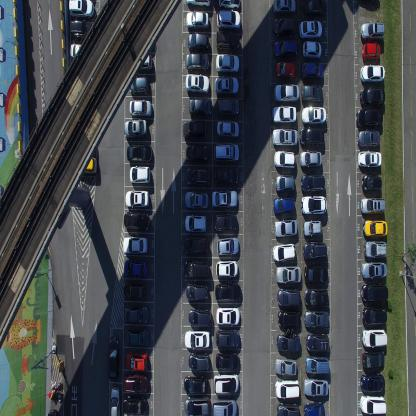car: (359, 394, 387, 416), (69, 18, 94, 42), (356, 108, 383, 130), (361, 282, 388, 304), (302, 240, 328, 262), (213, 373, 239, 395), (359, 86, 385, 108), (123, 210, 150, 231), (212, 142, 240, 162), (185, 74, 210, 96), (215, 30, 240, 52), (185, 165, 211, 186), (304, 354, 330, 375), (361, 305, 387, 326), (275, 264, 302, 284), (124, 118, 148, 140), (215, 52, 239, 74), (216, 97, 240, 119), (360, 20, 384, 42), (362, 328, 387, 349), (215, 282, 241, 302), (122, 394, 148, 414), (122, 374, 148, 394), (274, 83, 300, 103), (272, 127, 298, 147), (184, 395, 210, 415), (300, 195, 327, 214), (186, 142, 209, 164), (108, 336, 119, 382), (299, 18, 322, 40), (214, 165, 238, 186), (182, 119, 206, 140), (216, 327, 240, 348), (306, 332, 330, 353), (304, 376, 328, 397), (183, 236, 208, 256), (188, 98, 213, 118), (184, 259, 209, 279), (299, 127, 324, 147), (303, 264, 328, 284), (276, 288, 301, 308), (183, 375, 208, 395), (360, 64, 385, 84), (360, 372, 385, 392), (211, 190, 237, 209), (68, 0, 94, 19), (271, 105, 297, 124), (300, 173, 326, 192), (211, 396, 237, 415), (362, 219, 388, 238), (361, 261, 387, 280), (126, 350, 148, 372), (126, 327, 149, 348), (274, 38, 297, 59), (273, 149, 296, 170), (357, 130, 380, 151), (124, 258, 148, 278), (184, 190, 208, 210), (215, 306, 239, 326), (216, 10, 240, 30), (300, 60, 324, 80), (300, 83, 324, 103), (272, 196, 296, 216), (272, 242, 296, 262), (304, 309, 328, 329), (123, 305, 148, 324), (301, 106, 326, 125), (273, 219, 298, 238), (357, 150, 382, 169), (360, 196, 385, 215), (127, 144, 153, 162), (122, 236, 148, 254), (184, 330, 210, 348), (274, 380, 300, 398), (123, 280, 145, 301), (274, 60, 296, 81), (188, 307, 211, 327), (69, 42, 92, 62), (186, 32, 209, 52), (272, 17, 295, 37), (125, 190, 149, 209), (215, 259, 239, 278), (214, 212, 238, 231), (215, 76, 239, 95), (216, 120, 240, 139), (304, 288, 328, 307), (276, 333, 300, 352), (215, 351, 239, 370), (185, 53, 210, 71), (184, 214, 206, 234), (130, 53, 152, 73), (129, 165, 151, 185), (216, 236, 239, 255), (185, 282, 208, 301), (186, 10, 209, 29), (277, 308, 300, 327), (364, 240, 387, 259), (73, 156, 97, 174), (301, 40, 322, 60), (130, 98, 152, 117), (274, 357, 296, 376), (188, 352, 210, 371), (362, 350, 384, 369), (299, 150, 322, 168), (361, 42, 381, 62), (302, 218, 323, 237), (361, 174, 382, 193), (304, 0, 326, 18), (131, 75, 150, 95), (275, 174, 295, 193), (272, 0, 296, 15), (303, 400, 325, 416), (109, 386, 120, 416), (276, 402, 301, 415), (218, 0, 241, 11), (186, 0, 210, 8), (47, 408, 59, 415)
